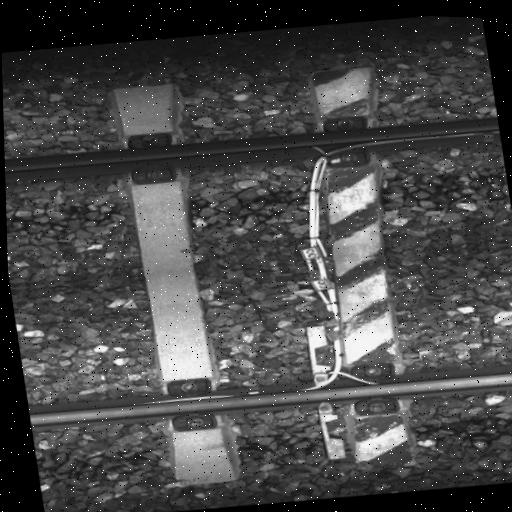sleeper: (276, 61, 434, 474), (109, 79, 243, 488)
